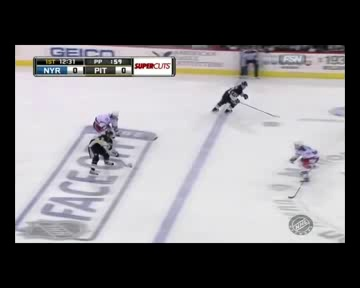normal: (80, 106, 135, 173), (206, 80, 258, 117), (285, 136, 325, 177)
